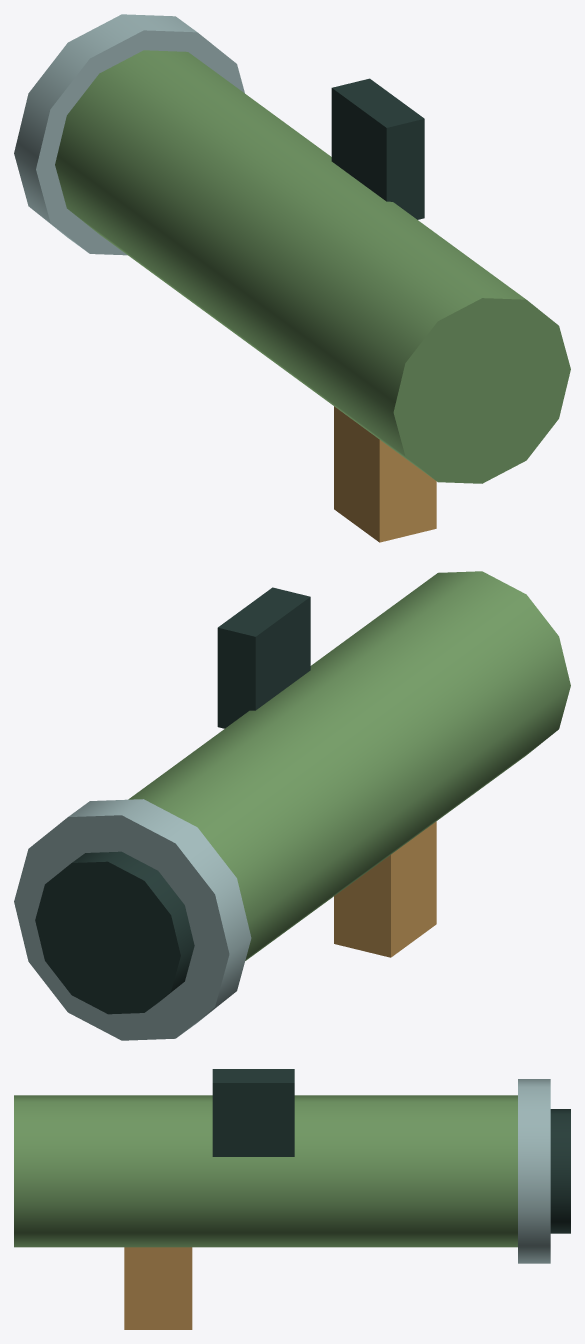
Rendered from bazooka.glb.
The picture shows the model from 3 angles, top to bottom: view 1: azimuth 30°, elevation 25°; view 2: azimuth 150°, elevation 25°; view 3: azimuth 270°, elevation 25°; orthographic projection. The views are drawn at different scales.
Parts seen in each view (by area): view 1: bazooka; view 2: bazooka; view 3: bazooka.
Boxes of the visible parts, x1,y1,x2,y2 form: bazooka: [14, 14, 570, 542]; bazooka: [14, 571, 570, 1040]; bazooka: [14, 1069, 570, 1329].
Size of the model in its own units: 0.68 by 1.07 by 2.04.
